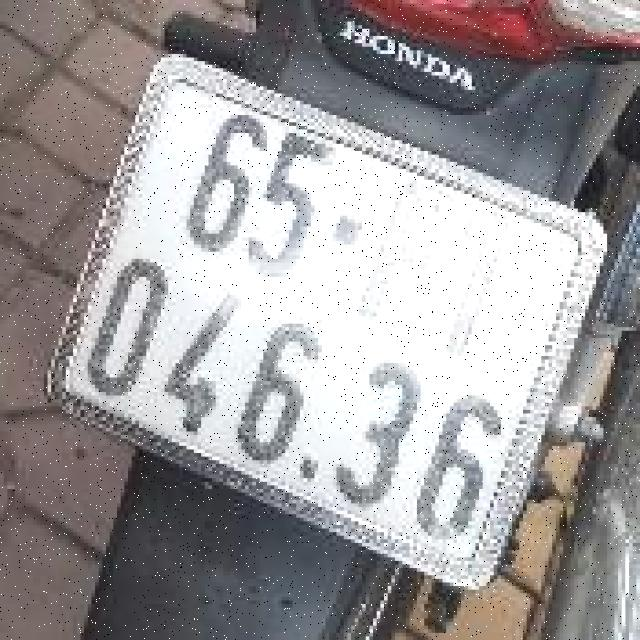0: (66, 228, 189, 410)
1: (417, 189, 531, 374)
3: (317, 340, 439, 521)
4: (141, 275, 273, 448)
5: (223, 115, 351, 302)
6: (393, 381, 521, 556), (218, 307, 342, 484), (165, 97, 282, 268)
F: (346, 167, 470, 347)
